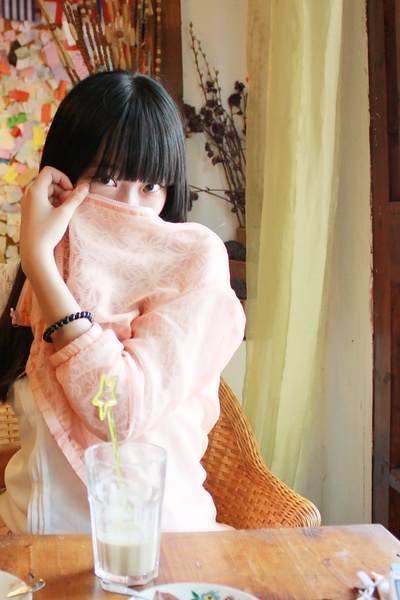face: (70, 137, 170, 256)
